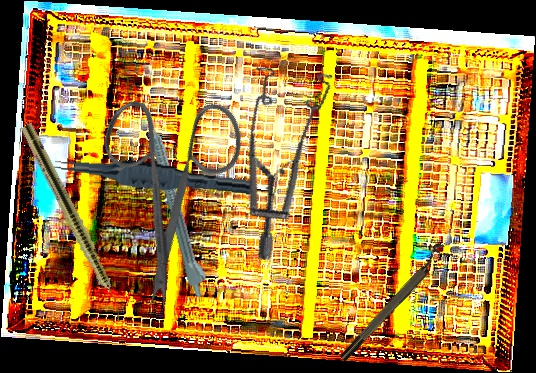Fixation Ring: (333, 240, 453, 364)
Handpiece: (17, 122, 131, 323), (142, 106, 213, 299)
Iris Scissors: (47, 57, 304, 318)
Speculum: (200, 43, 383, 265)
Tissue Forceps: (53, 154, 254, 196)
